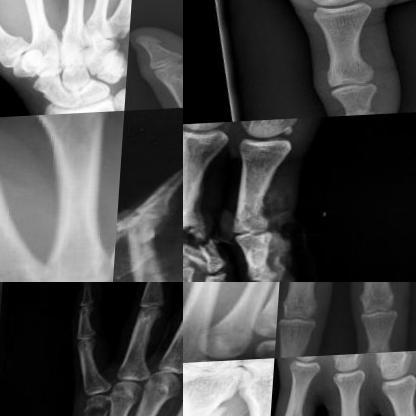fracture: (183, 210, 229, 264), (337, 101, 386, 118), (237, 282, 279, 293)
